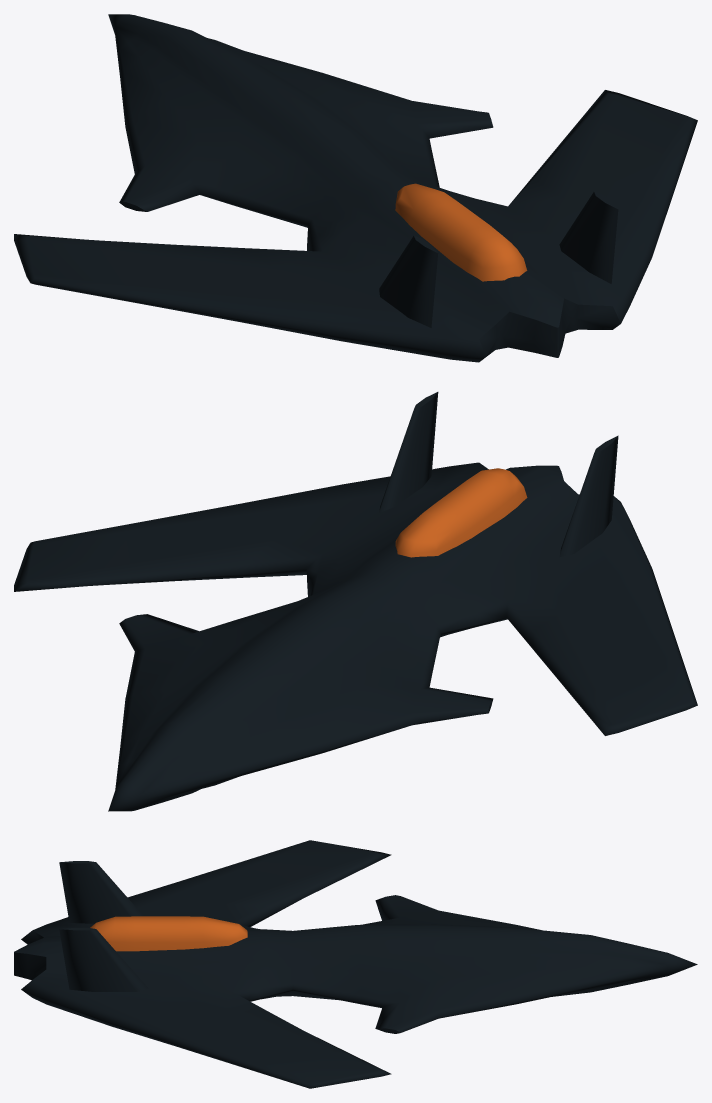
The model's file is Player_Jet.FBX.
The picture shows the model from 3 angles, top to bottom: view 1: azimuth 30°, elevation 25°; view 2: azimuth 150°, elevation 25°; view 3: azimuth 270°, elevation 25°; orthographic projection. The views are drawn at different scales.
Parts seen in each view (by area): view 1: Cylinder001, Box001, Object001, Object002; view 2: Cylinder001, Box001, Object001, Object002; view 3: Cylinder001, Box001, Object002, Object001.
Boxes of the visible parts, x1=… form: Cylinder001: x1=14, y1=14, x2=697, y2=362; Box001: x1=395, y1=183, x2=527, y2=281; Object001: x1=379, y1=235, x2=438, y2=327; Object002: x1=559, y1=191, x2=618, y2=283; Cylinder001: x1=14, y1=462, x2=697, y2=811; Box001: x1=395, y1=468, x2=527, y2=557; Object001: x1=559, y1=435, x2=618, y2=556; Object002: x1=379, y1=392, x2=438, y2=512; Cylinder001: x1=14, y1=840, x2=697, y2=1088; Box001: x1=90, y1=916, x2=247, y2=951; Object002: x1=59, y1=928, x2=148, y2=991; Object001: x1=59, y1=861, x2=143, y2=923.
Size of the model in its own units: 184 by 35.27 by 214.
